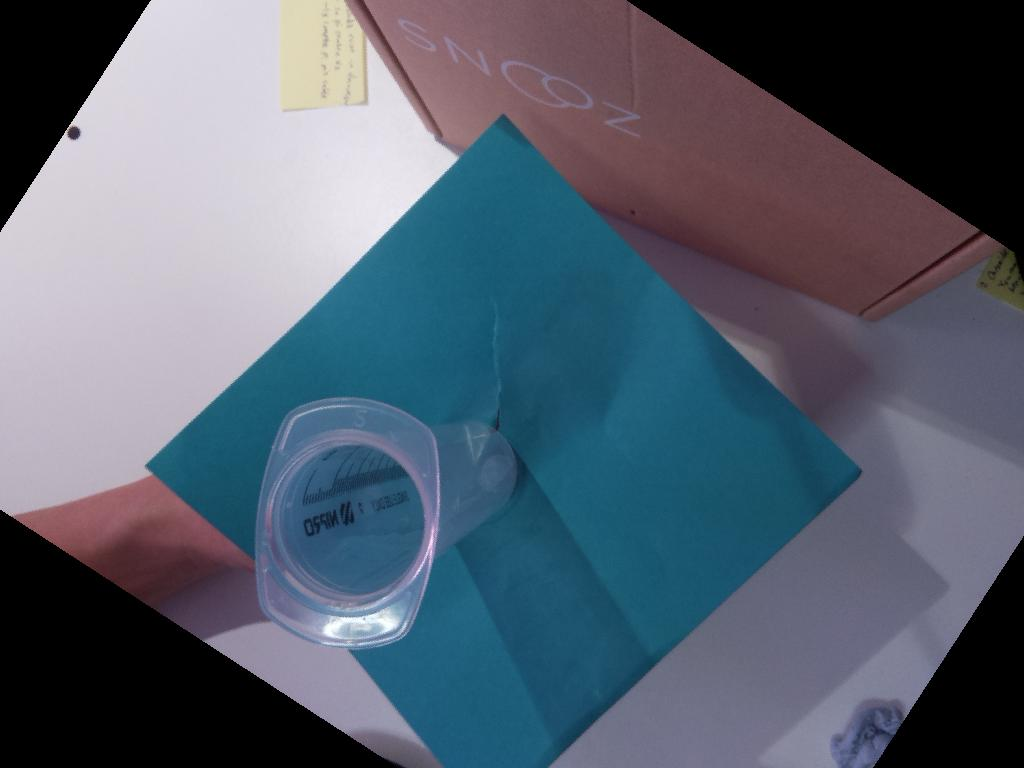clean: (252, 393, 442, 651)
